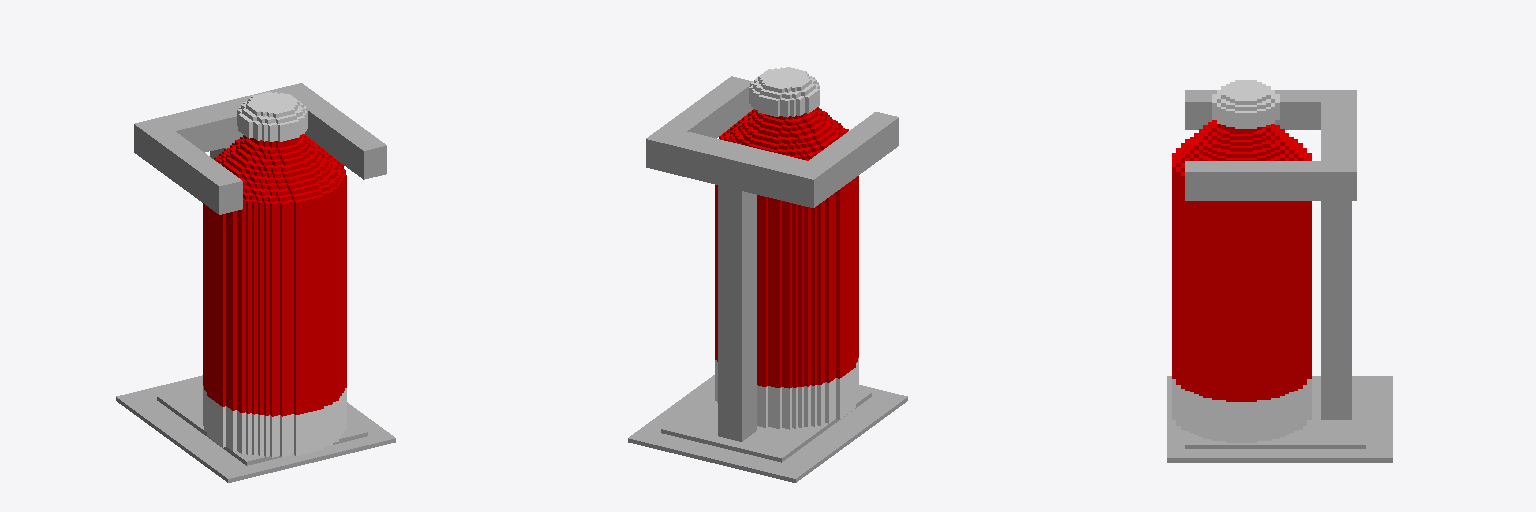
3 views of the same model, side by side, from view 1: azimuth 30°, elevation 25°; view 2: azimuth 150°, elevation 25°; view 3: azimuth 270°, elevation 25° (orthographic).
Size of the model in its own units: 43 by 81 by 50.
1 materials, 1 textured.